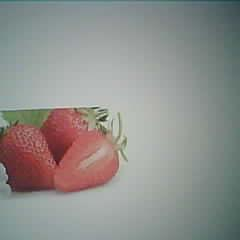straw-ripe: (0, 123, 56, 190)
